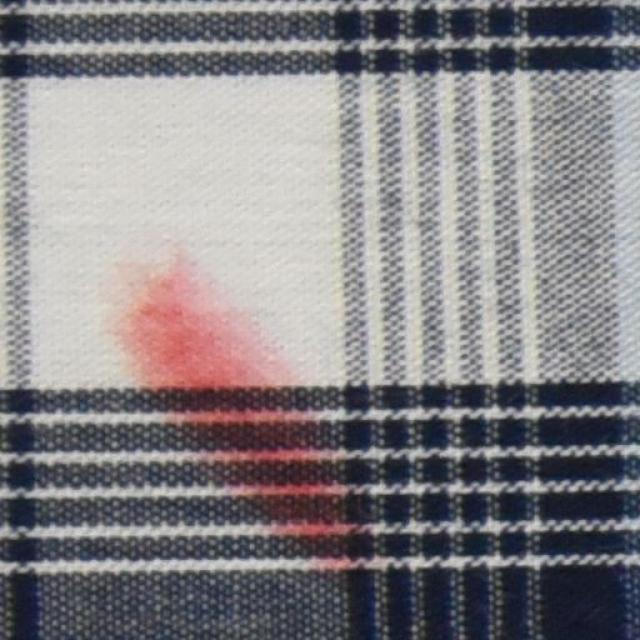Stain: (115, 268, 371, 578)
